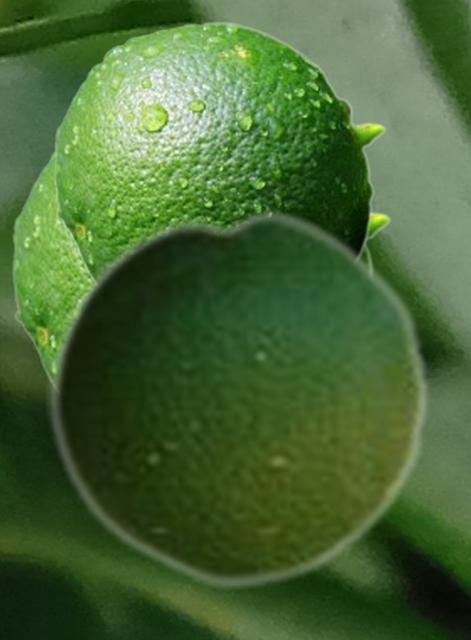dalandan: (46, 204, 430, 592), (11, 147, 390, 381), (53, 20, 385, 277)
